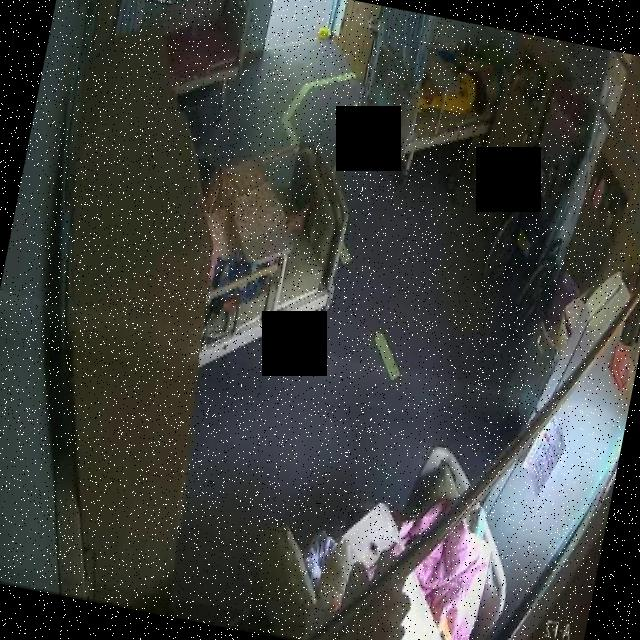bed: (252, 416, 533, 640), (174, 126, 358, 377), (356, 26, 506, 167), (154, 0, 257, 105)
